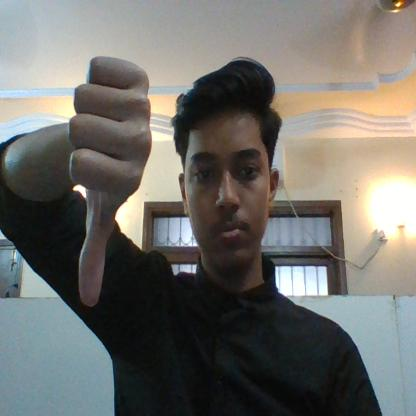thumbs-down: (68, 52, 153, 312)
